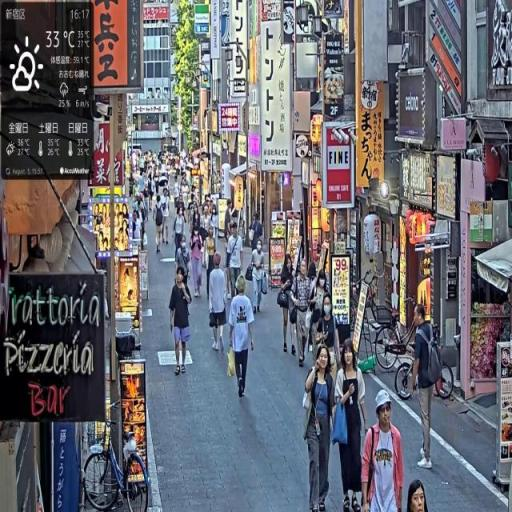person: (333, 338, 369, 512), (303, 344, 337, 512), (410, 304, 443, 470), (361, 390, 405, 512), (228, 273, 256, 403), (169, 268, 194, 377), (277, 249, 298, 359), (209, 253, 229, 355), (227, 222, 245, 304), (251, 235, 268, 317), (203, 225, 218, 302), (190, 225, 205, 300), (405, 479, 431, 512), (154, 201, 165, 260)
